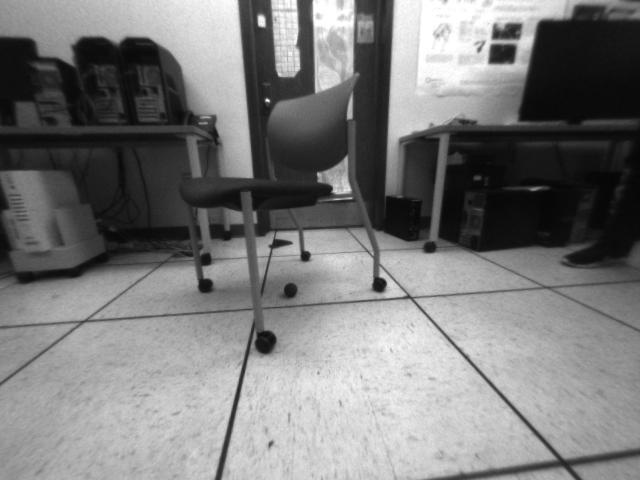dogtoy: (278, 275, 305, 300)
